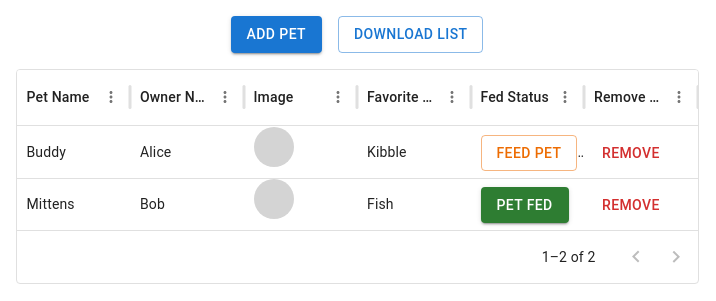
App › removes a pet from the grid
The image size is (716, 301).
Expected: the text "Buddy" is shown, [26,144,66,160]
Click the button "Remove" in the row of "Buddy": coordinates (631, 153) [594,135,668,171]
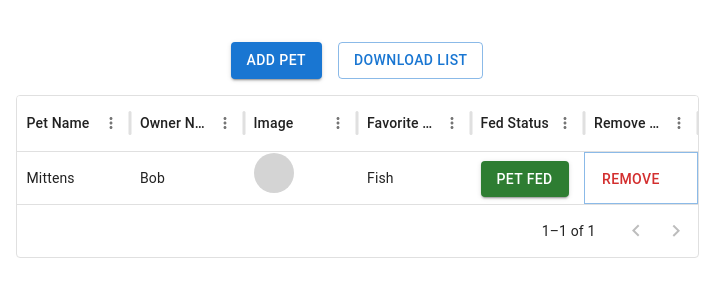
Now the text "Buddy" is gone
